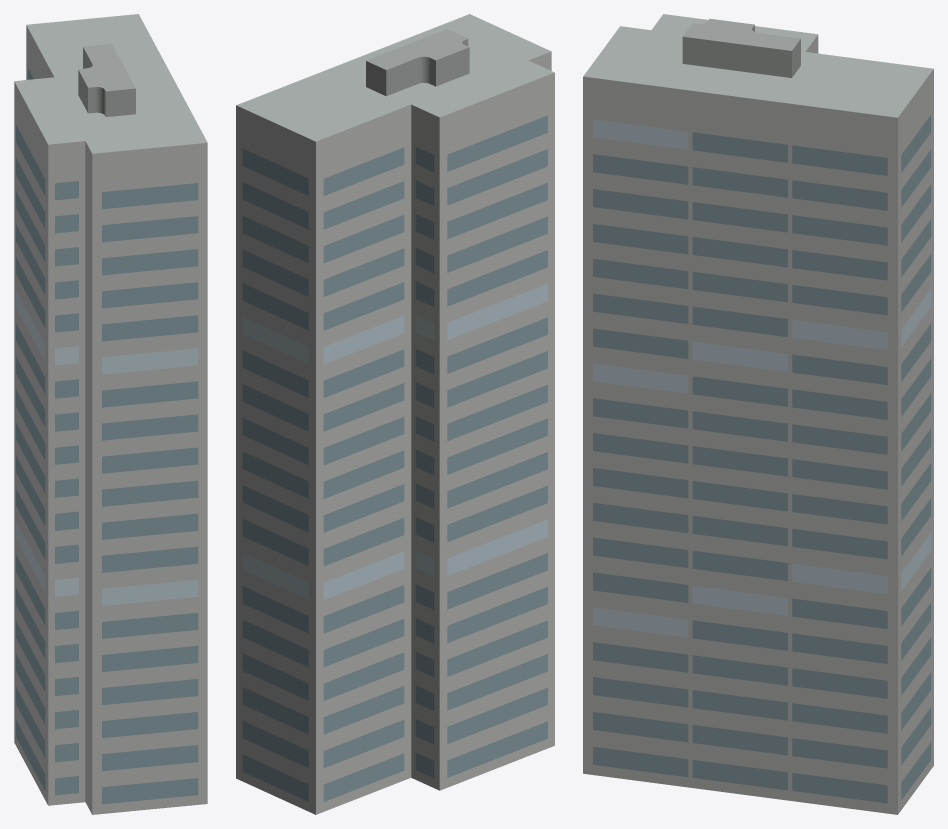
The model's file is fallback-dh-honor-hills-308.glb.
3 views of the same model, side by side, from view 1: azimuth 30°, elevation 25°; view 2: azimuth 150°, elevation 25°; view 3: azimuth 270°, elevation 25° (orthographic). The views are drawn at different scales.
Visible parts, largest first — view 1: fallback-dh-honor-hills-308; view 2: fallback-dh-honor-hills-308; view 3: fallback-dh-honor-hills-308.
Boxes of the visible parts, x1,y1,x2,y2 form: fallback-dh-honor-hills-308: (14,14,207,814); fallback-dh-honor-hills-308: (236,14,554,814); fallback-dh-honor-hills-308: (583,14,933,814).
Bounding box in the file's own units: 19.67 × 64 × 28.09.
